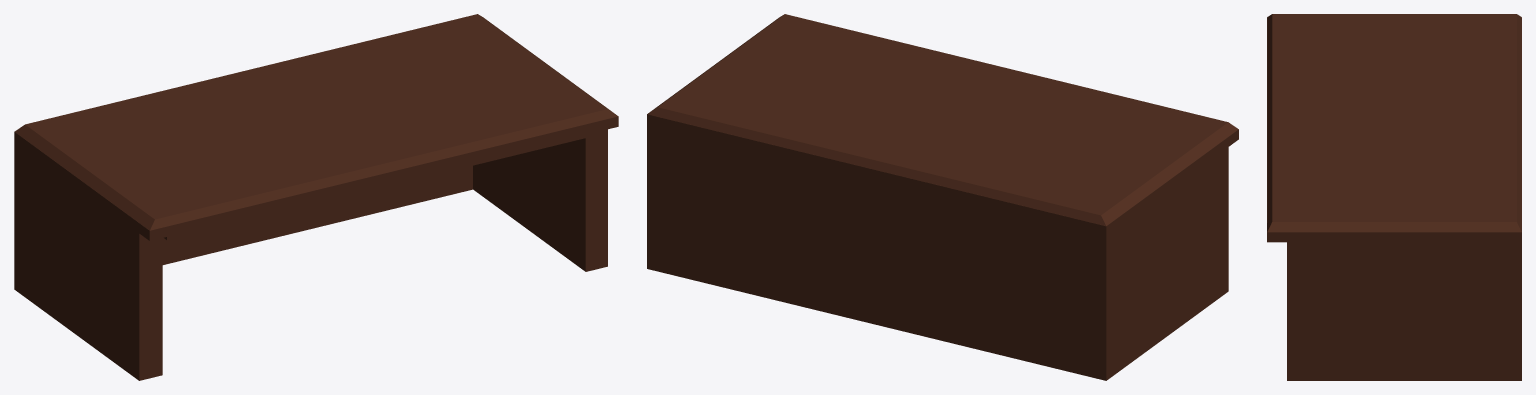
Rendered from consultant_desk.fbx.
3 renders of one model, left to right at view 1: azimuth 30°, elevation 25°; view 2: azimuth 150°, elevation 25°; view 3: azimuth 270°, elevation 25°, orthographic. The views are drawn at different scales.
Visible parts, largest first — view 1: table top, table body; view 2: table body, table top; view 3: table top, table body.
Boxes of the visible parts, left/top/right/bottom form: table top: left=14, top=14, right=617, bottom=230; table body: left=14, top=116, right=618, bottom=380; table body: left=647, top=114, right=1238, bottom=380; table top: left=647, top=14, right=1238, bottom=225; table top: left=1267, top=14, right=1521, bottom=232; table body: left=1267, top=17, right=1521, bottom=380.
Bounding box in the file's own units: 2000 × 673 × 1000.
